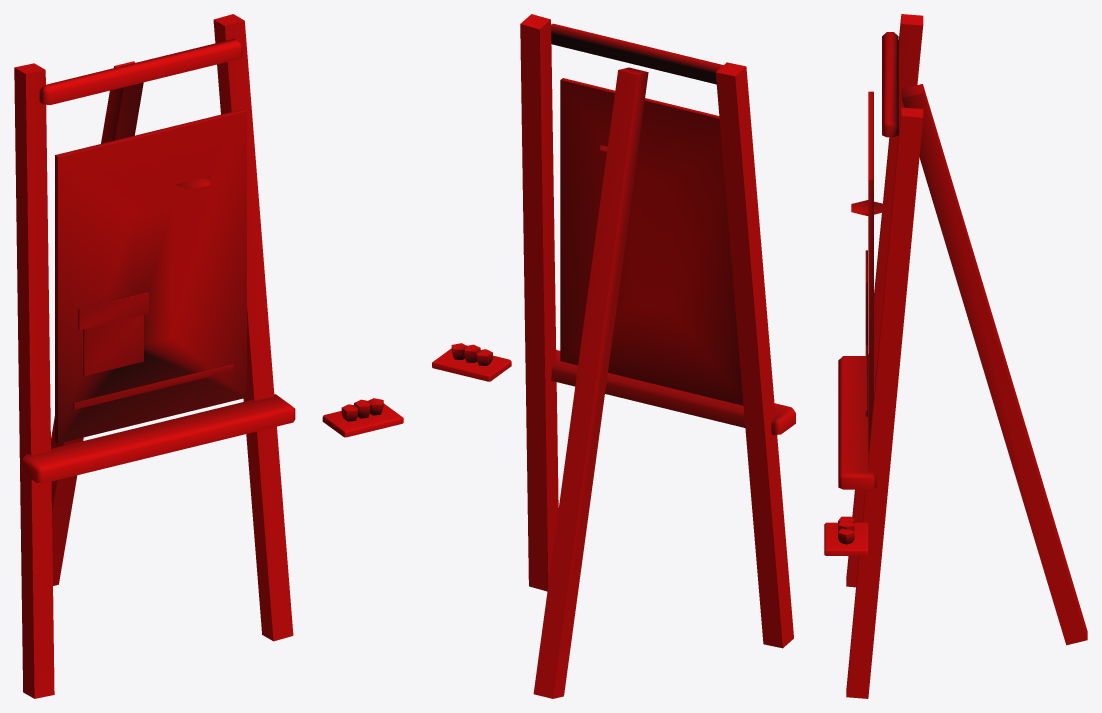
File: CI_Kids_Easel.glb
3 views of the same model, side by side, from view 1: azimuth 30°, elevation 25°; view 2: azimuth 150°, elevation 25°; view 3: azimuth 270°, elevation 25° (orthographic). The views are drawn at different scales.
Visible parts, largest first — view 1: CI_Kids_Easel; view 2: CI_Kids_Easel; view 3: CI_Kids_Easel.
Part boxes in pixels (x1=…): CI_Kids_Easel: x1=14, y1=14, x2=403, y2=698; CI_Kids_Easel: x1=432, y1=14, x2=795, y2=698; CI_Kids_Easel: x1=824, y1=14, x2=1087, y2=698.
Size of the model in its own units: 0.72 by 1.16 by 0.4793.
